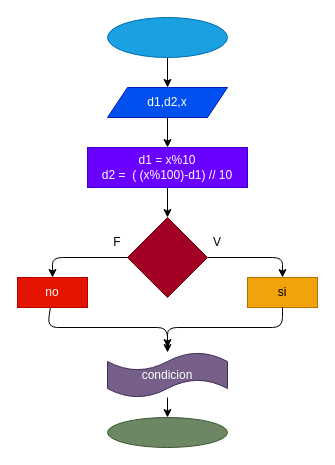
This 335x465 diagram has some shape labels left out. Here are the shapes that lost their labels. From the top down, the centre of each, then its label:
pixel 167 37: INICIO
pixel 167 257: d1 + d2 == 1
pixel 167 432: FIN
